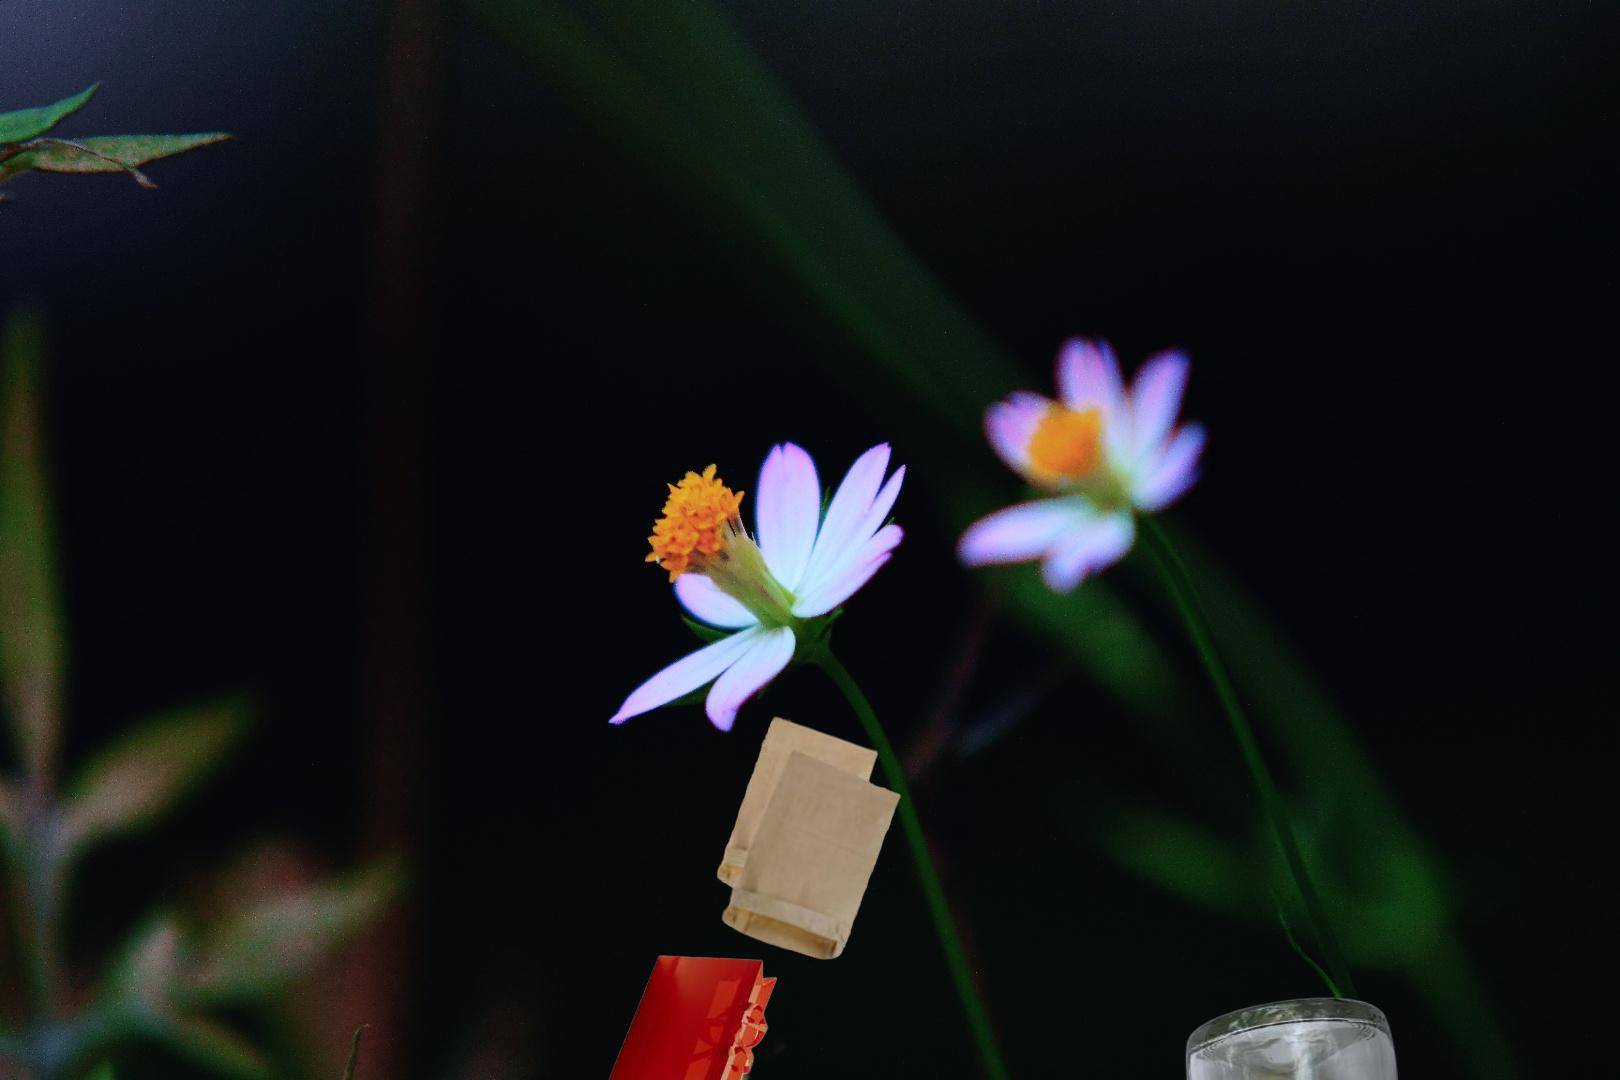glass: (1180, 994, 1430, 1080)
metal-cans: (1188, 958, 1401, 1080)
paper-bag: (715, 708, 904, 962), (603, 953, 792, 1080)
